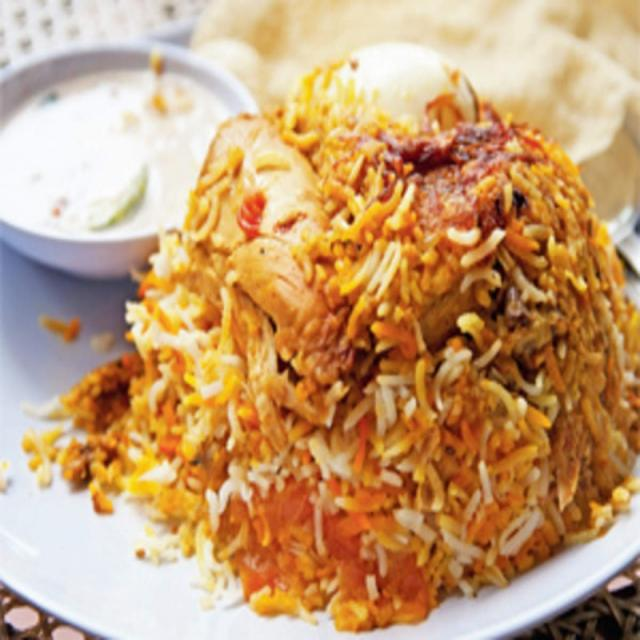Biryani: (39, 42, 626, 610)
